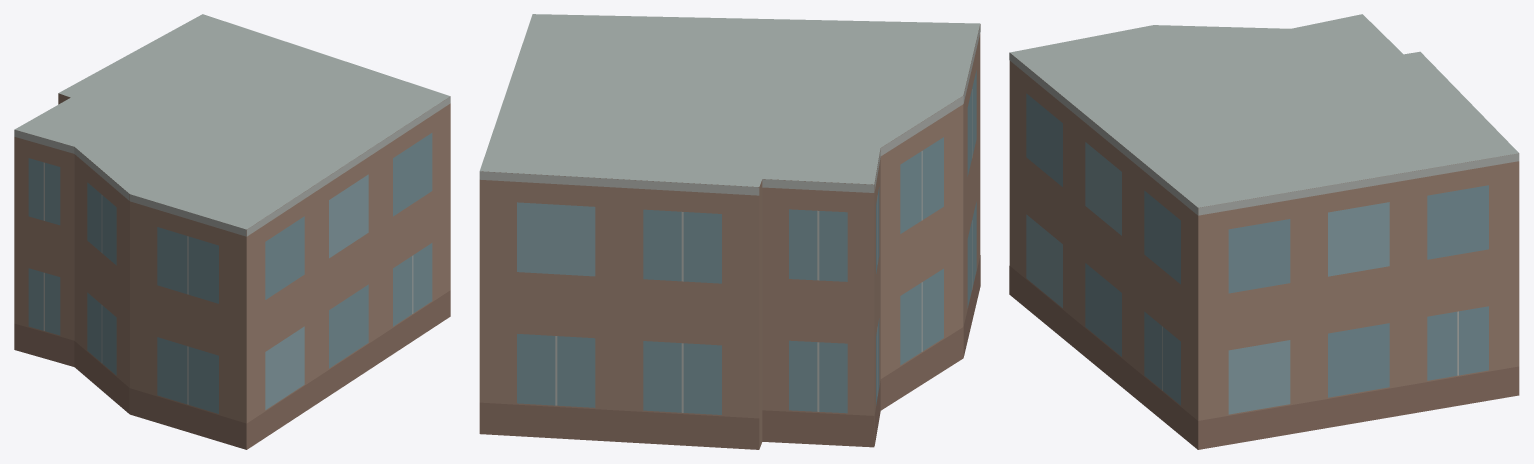
The model's file is survey-upis-32611175.glb.
3 views of the same model, side by side, from view 1: azimuth 30°, elevation 25°; view 2: azimuth 150°, elevation 25°; view 3: azimuth 270°, elevation 25° (orthographic). The views are drawn at different scales.
Parts seen in each view (by area): view 1: survey-upis-32611175.tmp; view 2: survey-upis-32611175.tmp; view 3: survey-upis-32611175.tmp.
Part boxes in pixels (<box>): survey-upis-32611175.tmp: <box>14,14,450,449</box>; survey-upis-32611175.tmp: <box>479,14,980,449</box>; survey-upis-32611175.tmp: <box>1009,14,1519,449</box>.
Bounding box in the file's own units: 12.88 × 7.5 × 14.32.
